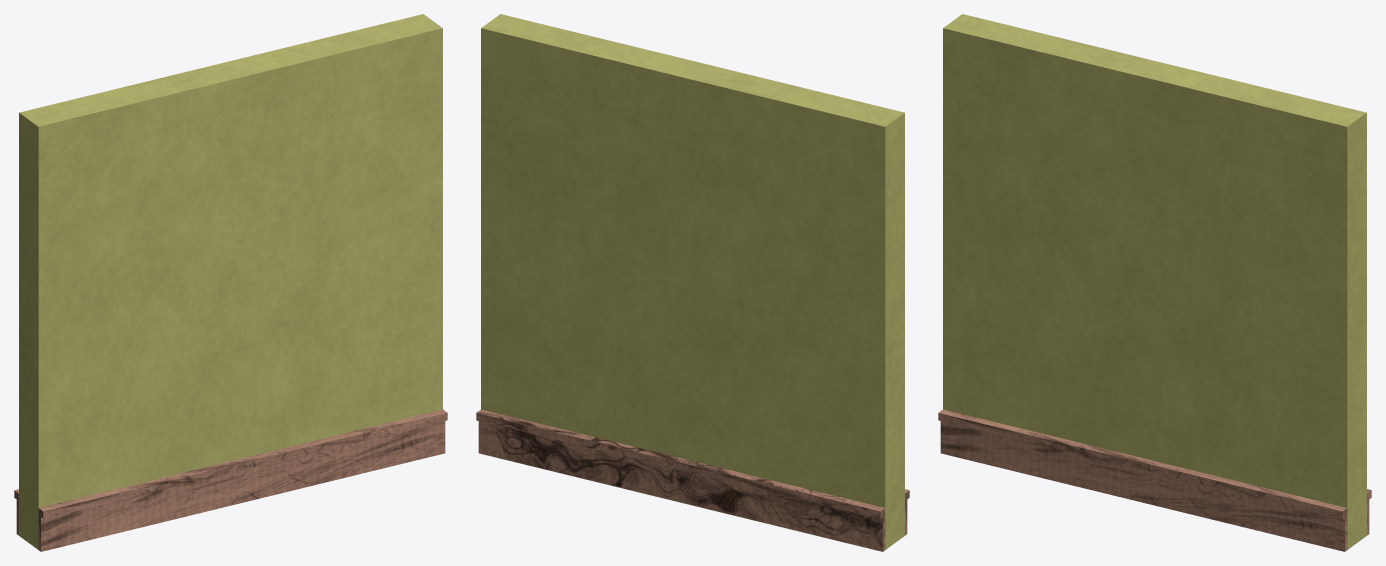
The model's file is WallExtensionLarge.fbx.
3 renders of one model, left to right at view 1: azimuth 30°, elevation 25°; view 2: azimuth 150°, elevation 25°; view 3: azimuth 330°, elevation 25°, orthographic.
Visible parts, largest first — view 1: WallExtensionBig_Baked; view 2: WallExtensionBig_Baked; view 3: WallExtensionBig_Baked.
Boxes of the visible parts, box(x1,y1,x2,y2) form: WallExtensionBig_Baked: box(14, 14, 447, 551); WallExtensionBig_Baked: box(476, 14, 909, 551); WallExtensionBig_Baked: box(938, 14, 1371, 551).
Size of the model in its own units: 300 by 300 by 37.37.
1 material, 1 textured.
